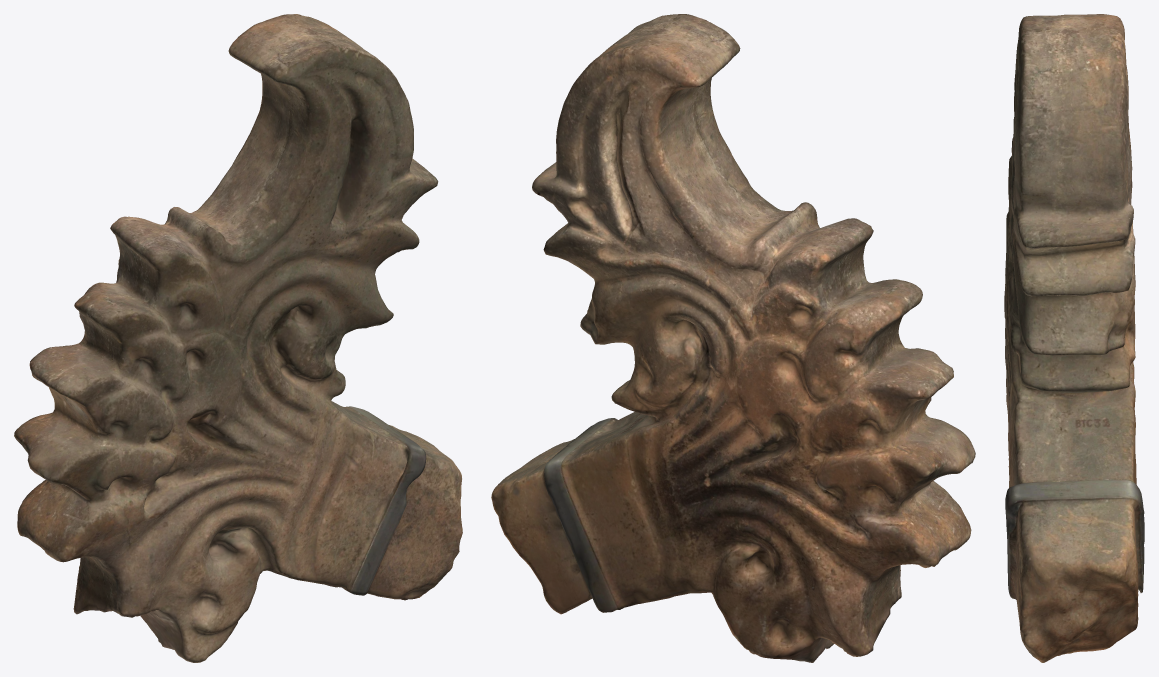
The model's file is 31_vattrangtri_final.glb.
3 views of the same model, side by side, from view 1: azimuth 30°, elevation 25°; view 2: azimuth 150°, elevation 25°; view 3: azimuth 270°, elevation 25° (orthographic). The views are drawn at different scales.
Bounding box in the file's own units: 0.4296 × 0.5594 × 0.121.
Materials: 1 (1 with a texture image).
